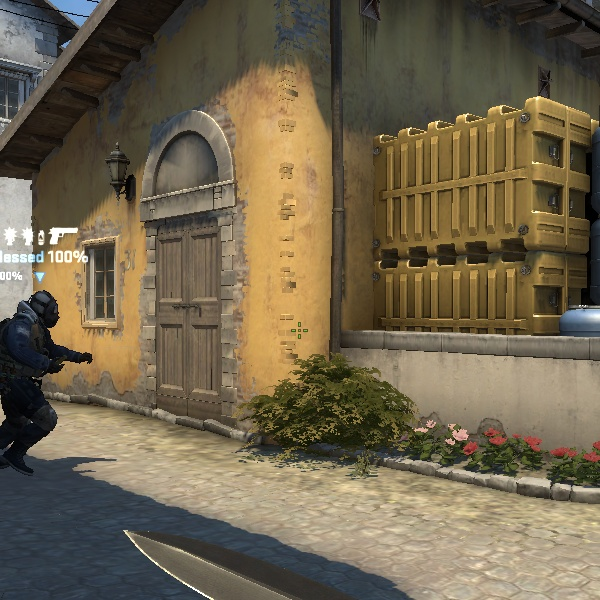ct_body: (0, 279, 82, 482)
ct_head: (19, 284, 66, 332)
